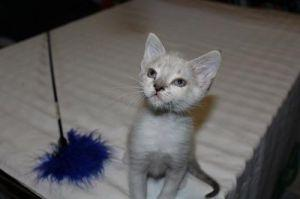siamese: (137, 30, 222, 118)
